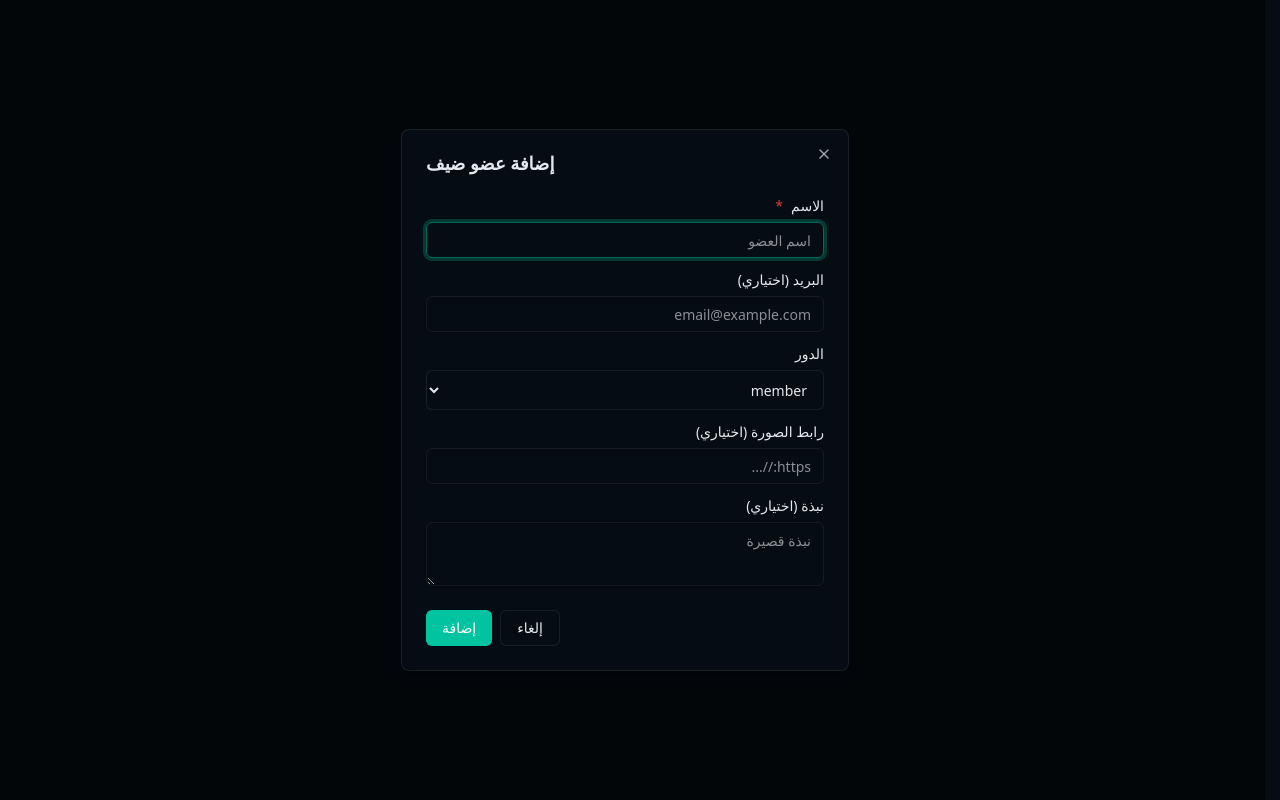
it: TeamGhostMemberModal › shows email validation error
The image size is (1280, 800).
In the field with placeholder "اسم العضو": [625, 240] box left=426, top=222, right=824, bottom=258, type "Ghost"
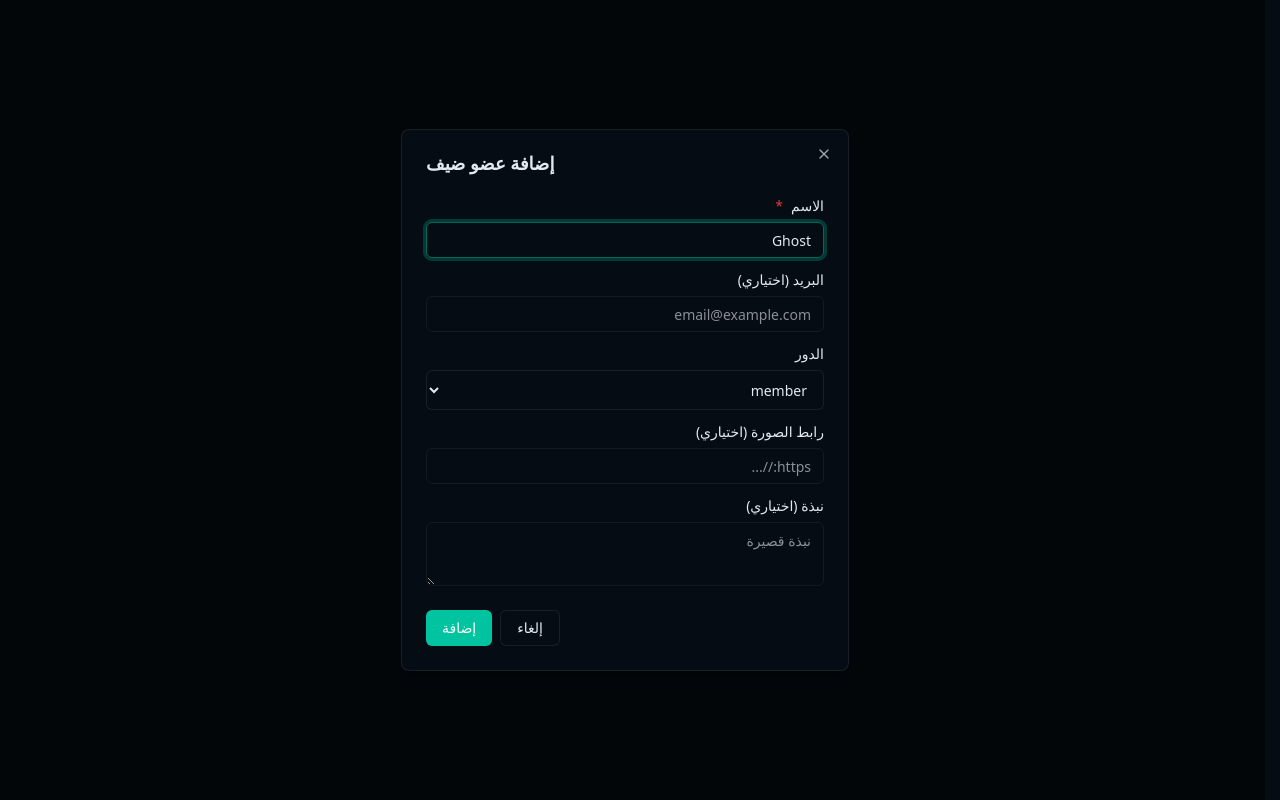
In the field with placeholder "email@example.com": [625, 314] box left=426, top=296, right=824, bottom=332, type "bad-email"
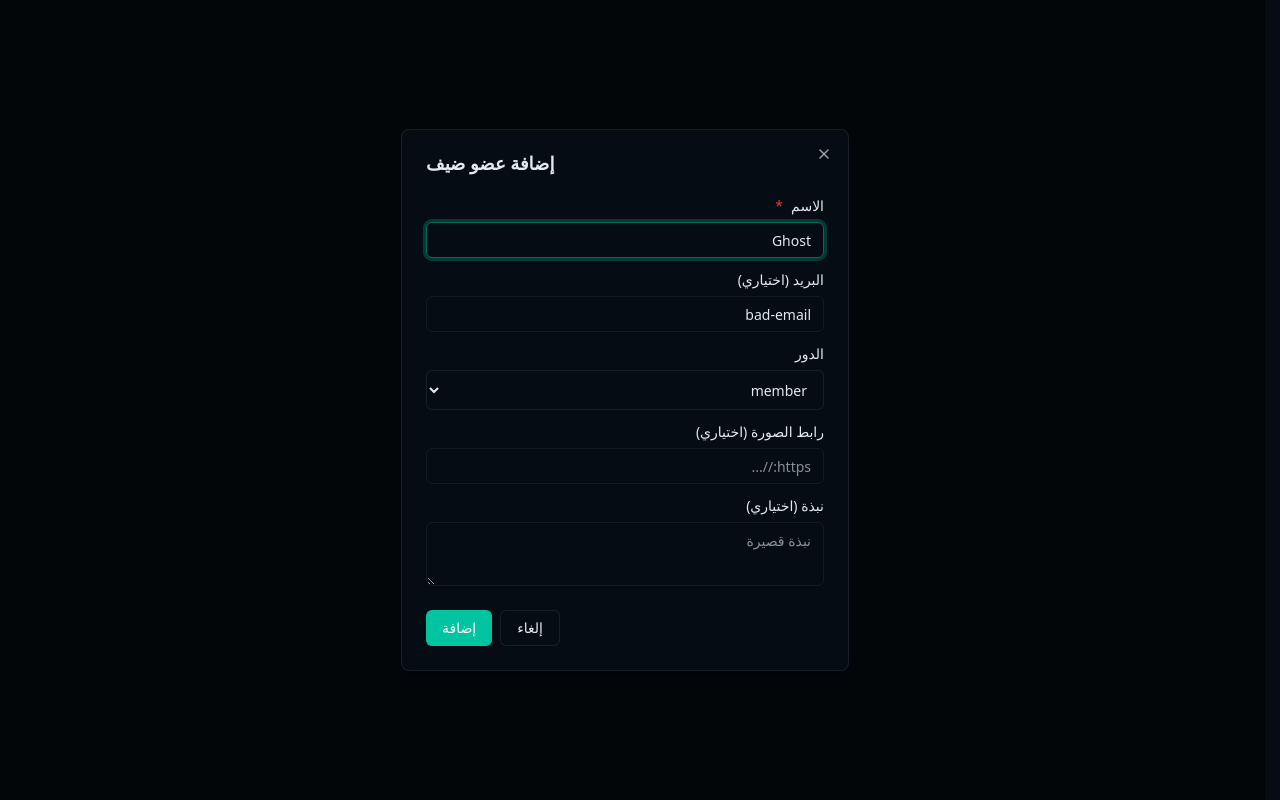
Click the button "إضافة": [459, 628] box left=426, top=610, right=492, bottom=646
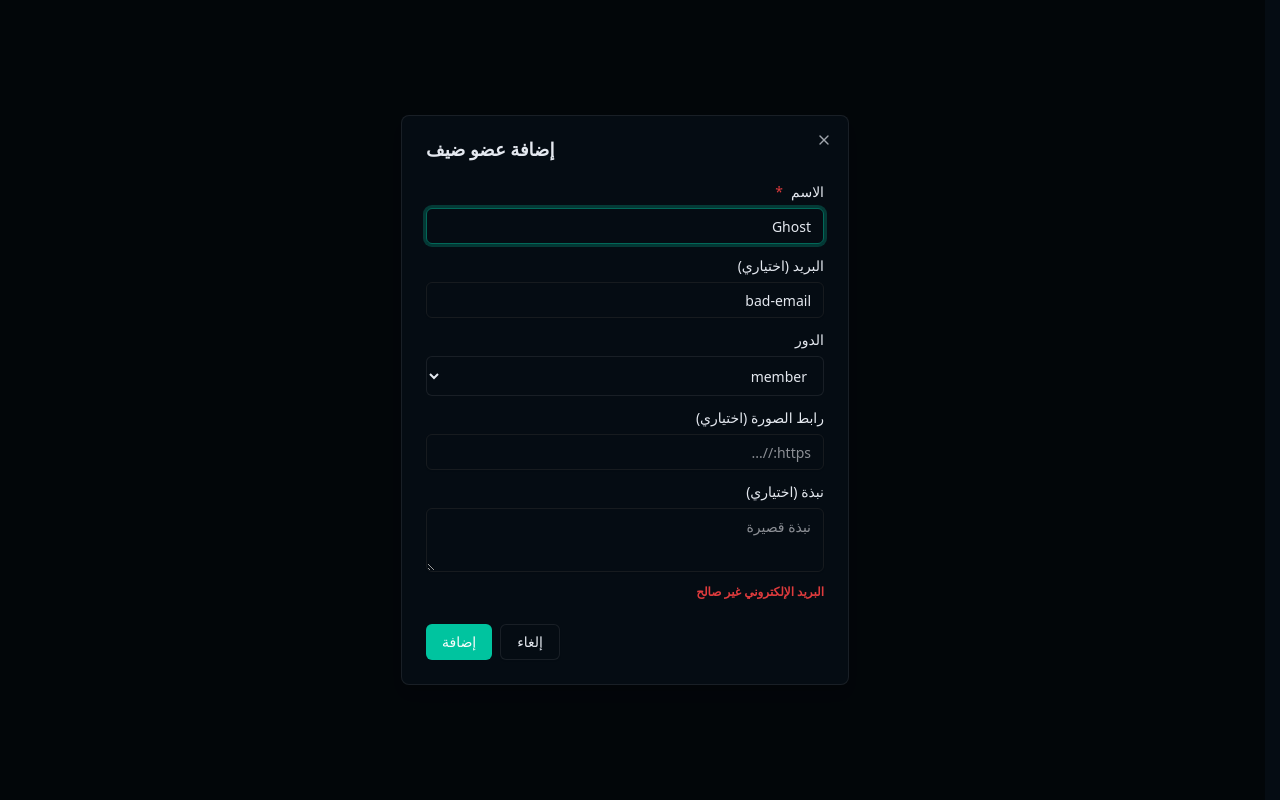
Check: the text "البريد الإلكتروني غير صالح" is shown, box left=696, top=583, right=824, bottom=600
